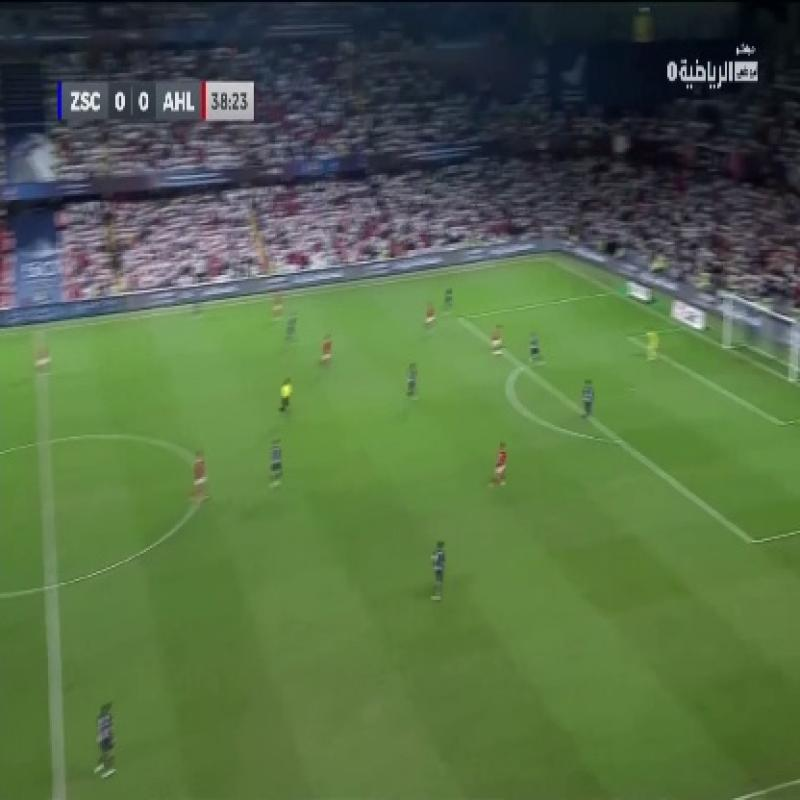1: (531, 250, 554, 268)
10: (512, 354, 530, 377)
11: (610, 427, 628, 452)
12: (740, 525, 764, 554)
13: (26, 324, 55, 341)
14: (30, 423, 57, 458)
15: (32, 566, 64, 606)
2: (602, 281, 625, 302)
3: (667, 314, 696, 340)
7: (618, 327, 640, 346)
8: (771, 410, 792, 434)
9: (448, 306, 466, 327)
c: (182, 457, 224, 496)
